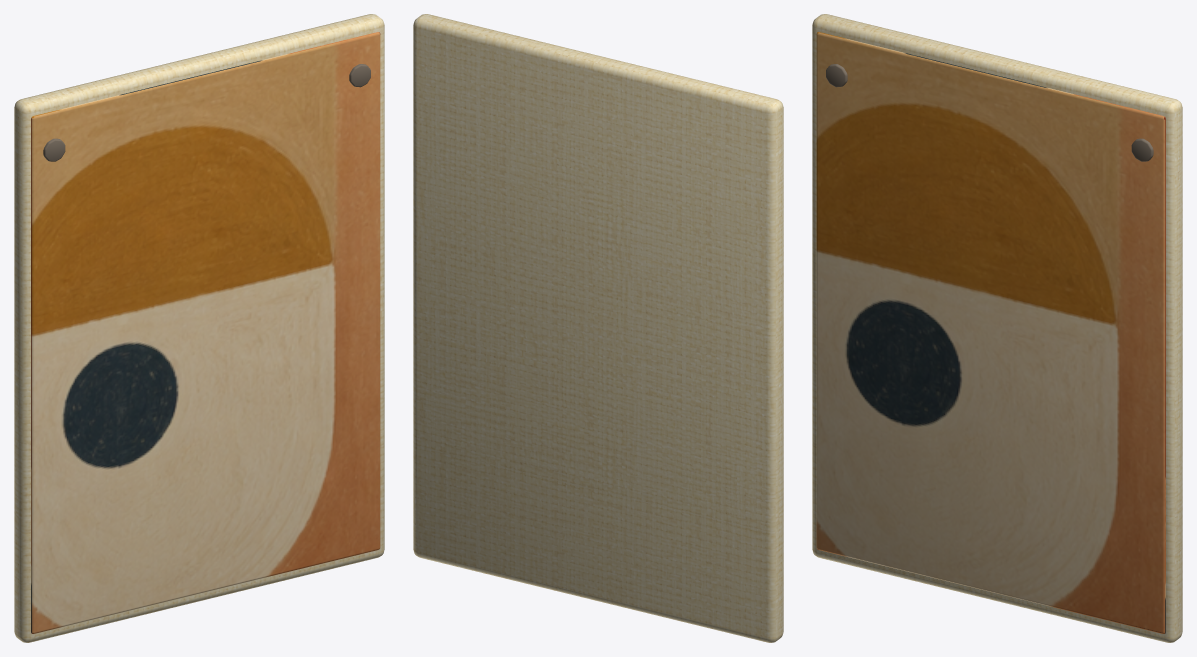
The model's file is abstract-poster.glb.
The picture shows the model from 3 angles, left to right: view 1: azimuth 30°, elevation 25°; view 2: azimuth 150°, elevation 25°; view 3: azimuth 330°, elevation 25°; orthographic projection.
Visible parts, largest first — view 1: abstract-poster; view 2: abstract-poster; view 3: abstract-poster.
Part boxes in pixels (x1,y1,x2,y2): abstract-poster: (14,14,384,642); abstract-poster: (413,14,783,642); abstract-poster: (812,14,1182,642).
Bounding box in the file's own units: 0.6 × 0.85 × 0.0431.
Materials: 3 (2 with a texture image).
